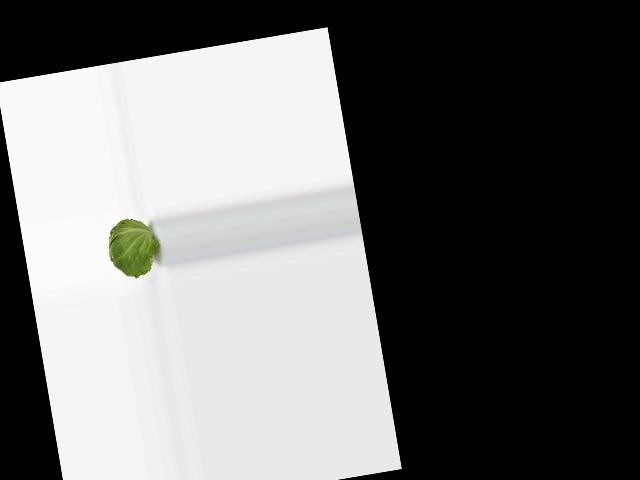lettuce: (102, 211, 157, 283)
